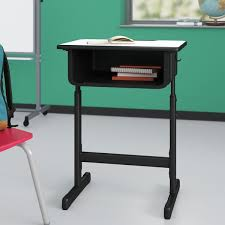desk: (56, 37, 187, 218)
